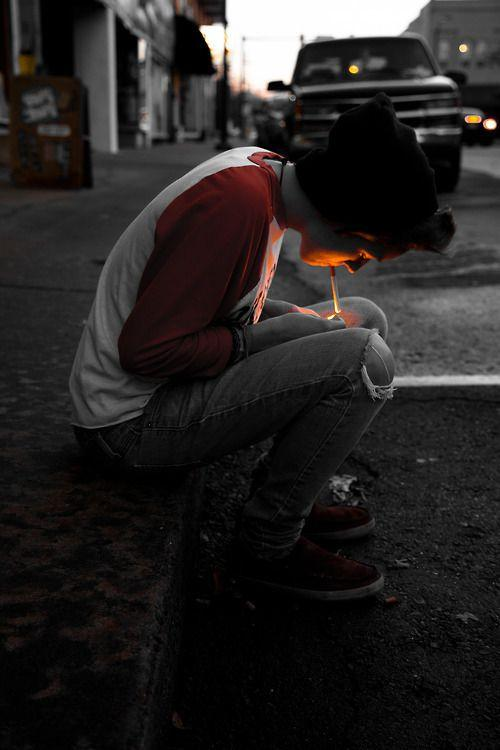cigarette: (330, 265, 340, 314)
